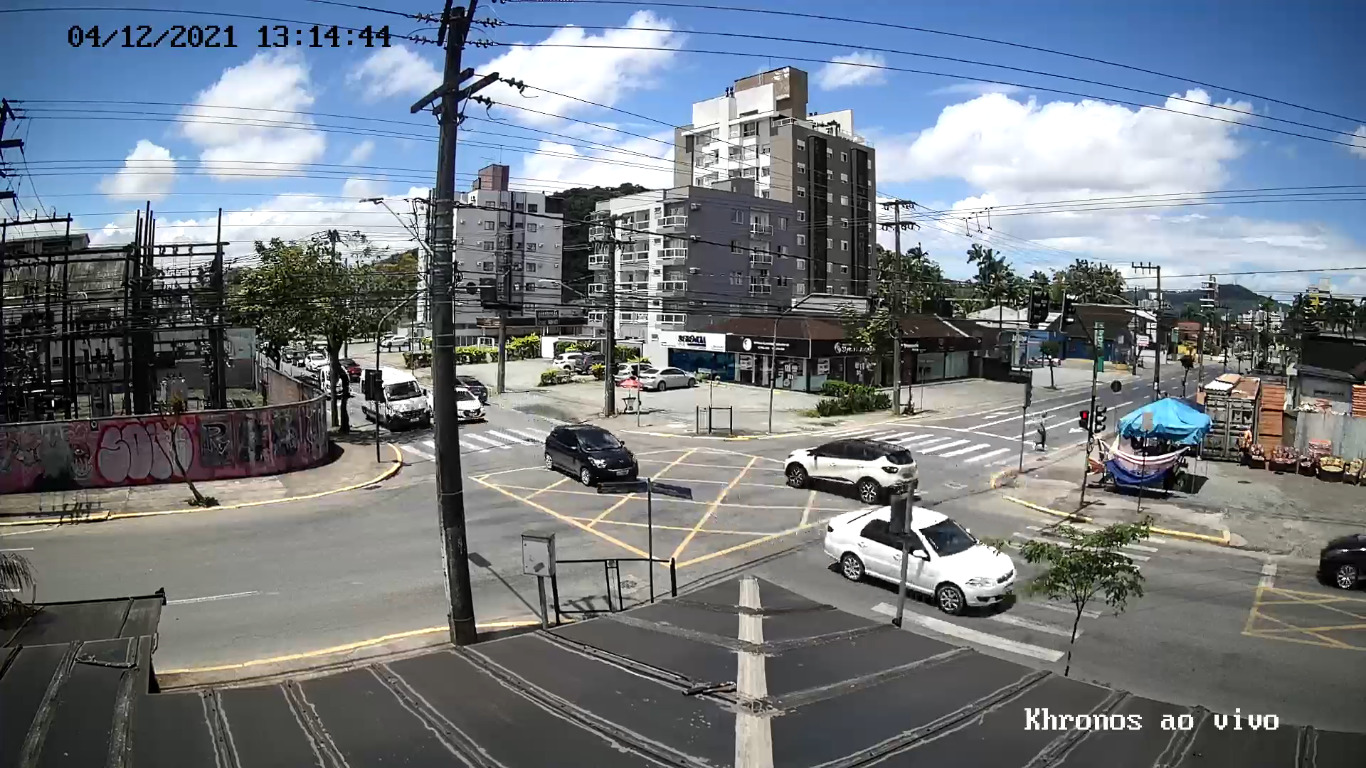car: (825, 501, 1017, 615), (783, 437, 917, 503), (543, 425, 639, 486)
